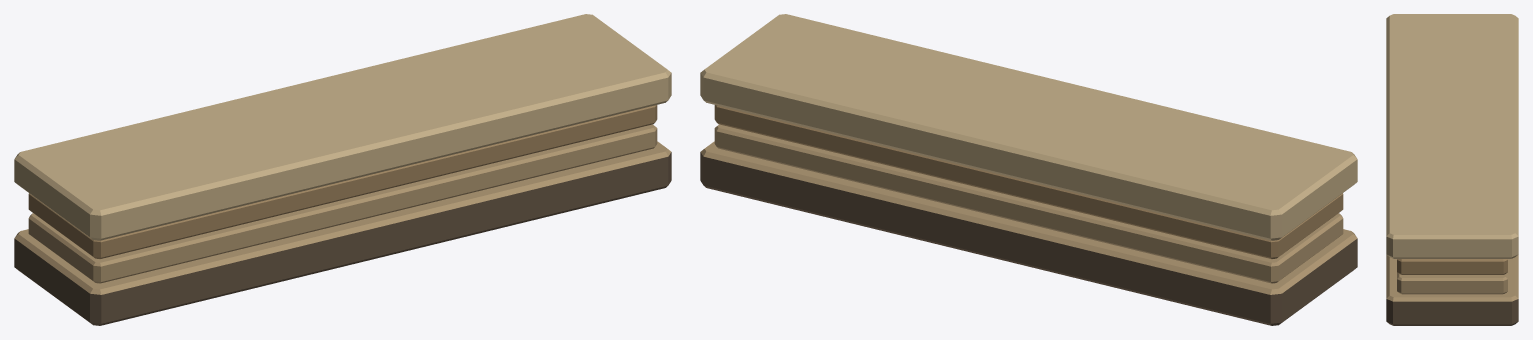
File: wall-low.glb
3 renders of one model, left to right at view 1: azimuth 30°, elevation 25°; view 2: azimuth 150°, elevation 25°; view 3: azimuth 270°, elevation 25°, orthographic. The views are drawn at different scales.
Visible parts, largest first — view 1: wall-low__body; view 2: wall-low__body; view 3: wall-low__body.
Part boxes in pixels (x1,y1,x2,y2): wall-low__body: (14,14,671,325); wall-low__body: (700,14,1357,325); wall-low__body: (1386,14,1518,325).
Bounding box in the file's own units: 2 × 0.38 × 0.5.
